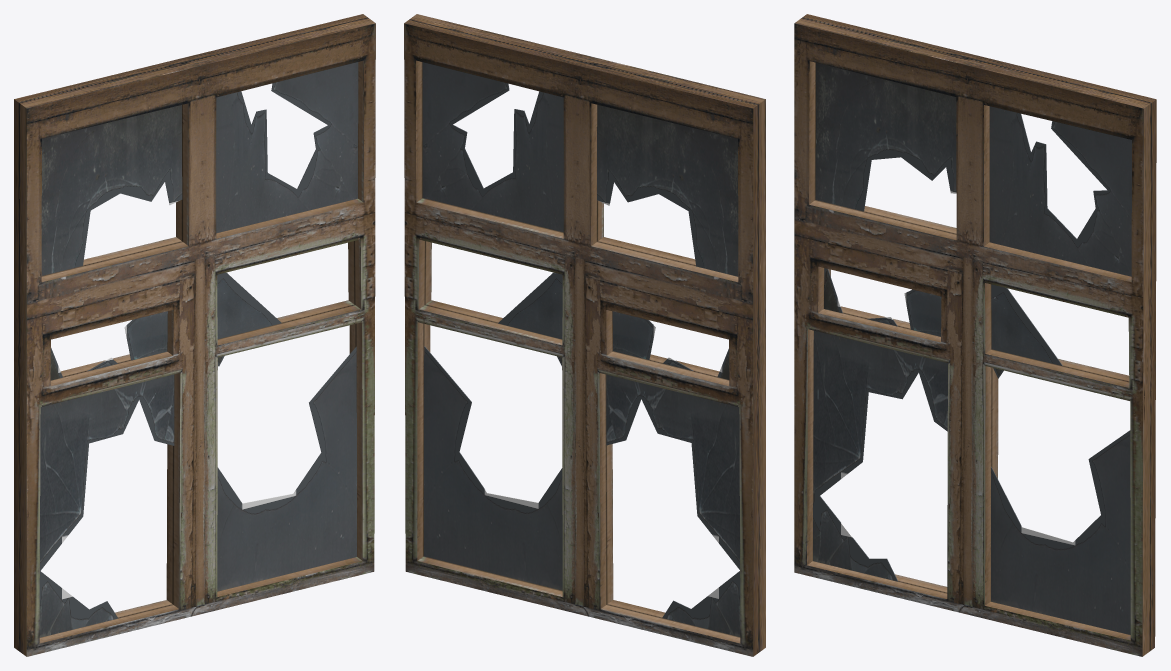
Rendered from Windows_09.fbx.
3 renders of one model, left to right at view 1: azimuth 30°, elevation 25°; view 2: azimuth 150°, elevation 25°; view 3: azimuth 330°, elevation 25°, orthographic.
Visible parts, largest first — view 1: Windows_09, Windows_09glass (×6); view 2: Windows_09, Windows_09glass (×6); view 3: Windows_09, Windows_09glass (×6).
Boxes of the visible parts, box(x1,y1,x2,y2) form: Windows_09: box(14, 14, 375, 656); Windows_09glass (×6): box(39, 62, 358, 637); Windows_09: box(404, 14, 765, 656); Windows_09glass (×6): box(422, 62, 740, 636); Windows_09: box(794, 14, 1156, 656); Windows_09glass (×6): box(813, 62, 1131, 634).
Size of the model in its own units: 95.93 by 6.07 by 144.
2 materials, 2 textured.
